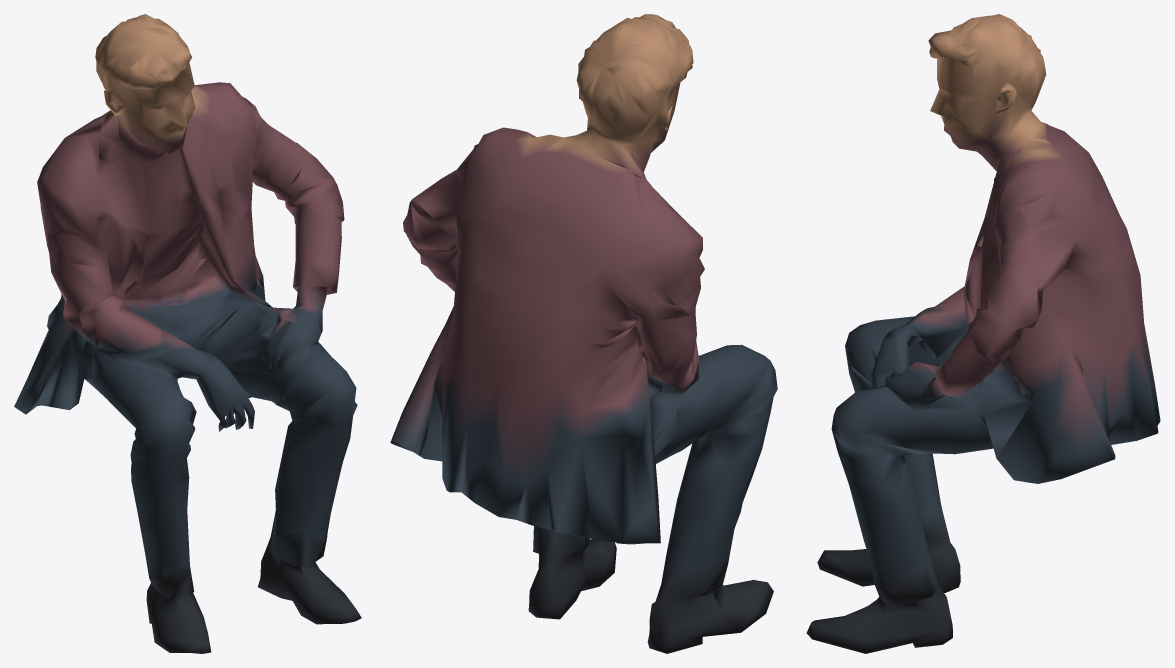
File: people_typ3_sit.glb
The picture shows the model from 3 angles, left to right: view 1: azimuth 30°, elevation 25°; view 2: azimuth 150°, elevation 25°; view 3: azimuth 270°, elevation 25°; orthographic projection. The views are drawn at different scales.
Parts seen in each view (by area): view 1: people_typ3_sit-mesh; view 2: people_typ3_sit-mesh; view 3: people_typ3_sit-mesh.
Part boxes in pixels (bbox=[...]): people_typ3_sit-mesh: bbox=[14, 14, 361, 653]; people_typ3_sit-mesh: bbox=[390, 14, 777, 653]; people_typ3_sit-mesh: bbox=[806, 14, 1160, 653].
Bounding box in the file's own units: 0.7146 × 1.42 × 0.8008.
